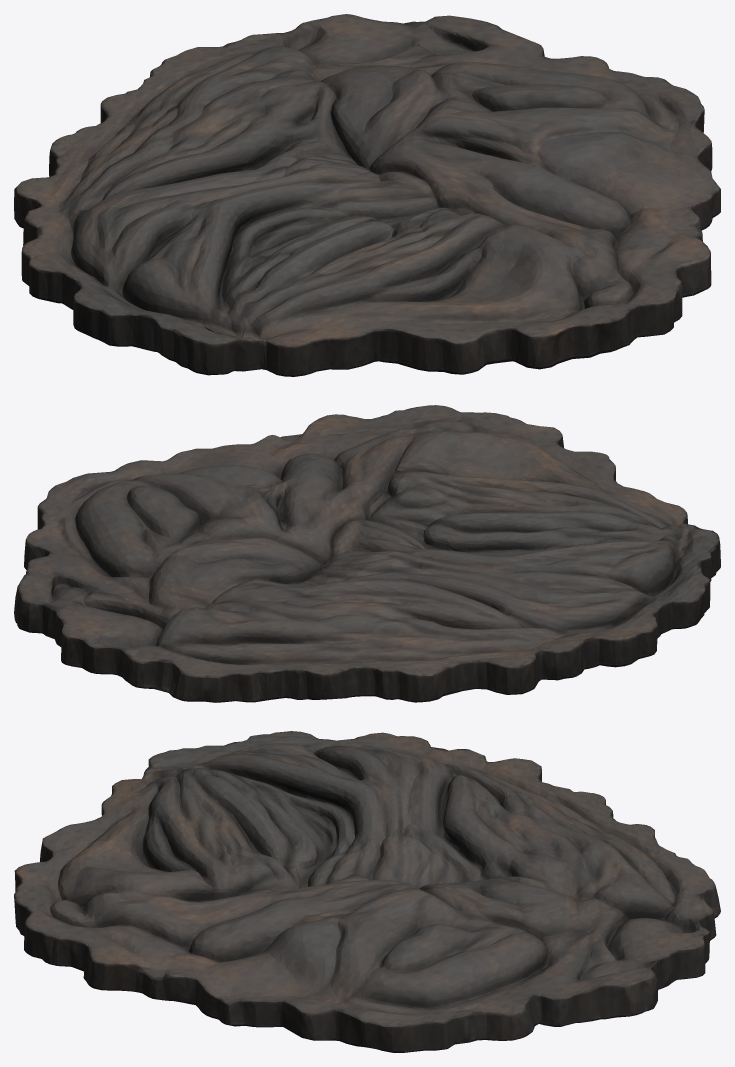
3 renders of one model, top to bottom at view 1: azimuth 30°, elevation 25°; view 2: azimuth 150°, elevation 25°; view 3: azimuth 270°, elevation 25°, orthographic. The views are drawn at different scales.
Parts seen in each view (by area): view 1: world; view 2: world; view 3: world.
Part boxes in pixels (<box>): world: <box>14,14,720,376</box>; world: <box>14,405,720,702</box>; world: <box>14,731,720,1052</box>.
Size of the model in its own units: 0.9463 by 0.0904 by 0.95.
Materials: 1 (1 with a texture image).
